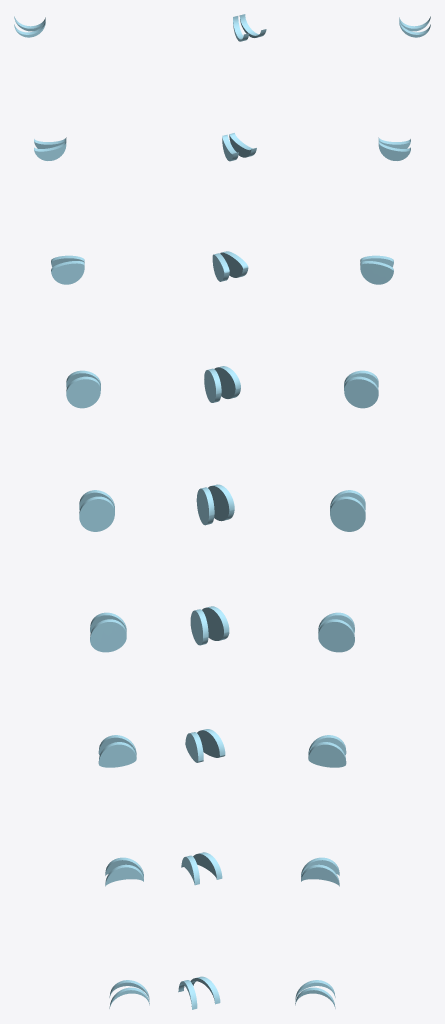
Rendered from Moons.obj.
The picture shows the model from 3 angles, left to right: view 1: azimuth 90°, elevation 25°; view 2: azimuth 210°, elevation 25°; view 3: azimuth 270°, elevation 25°; orthographic projection. The views are drawn at different scales.
Visible parts, largest first — view 1: Moons; view 2: Moons; view 3: Moons.
Part boxes in pixels (x1,y1,x2,y2): Moons: [14, 16, 149, 1008]; Moons: [178, 14, 266, 1009]; Moons: [295, 16, 430, 1008].
Bounding box in the file's own units: 0.0942 × 3.21 × 0.3983.
